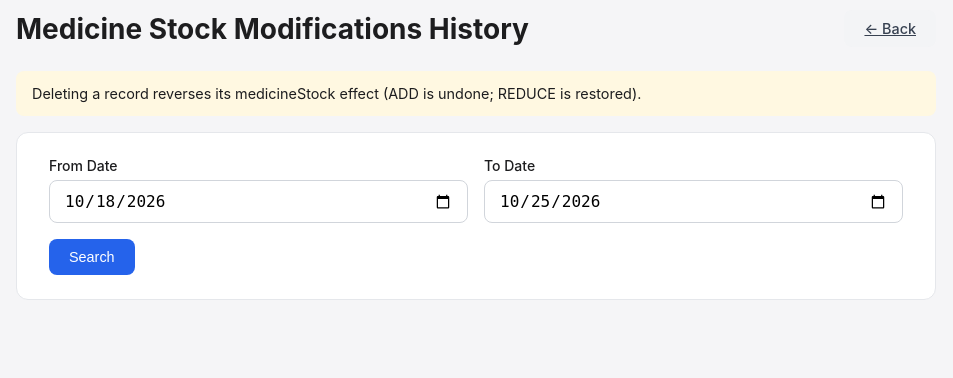
ViewMedicineStockAdjustments — search › shows error alert on API failure
This screenshot has width=953, height=378.
Click the button "Search": [92, 257] box [49,239,135,275]
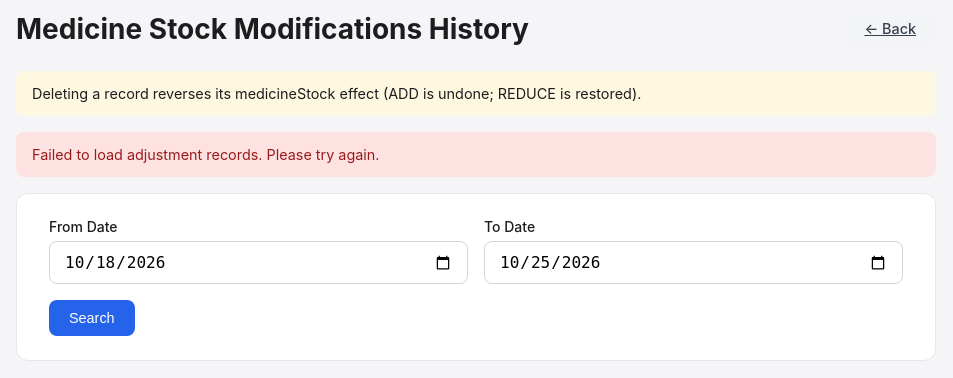
Expected: the message shows "Failed to load", [32,146,380,163]
